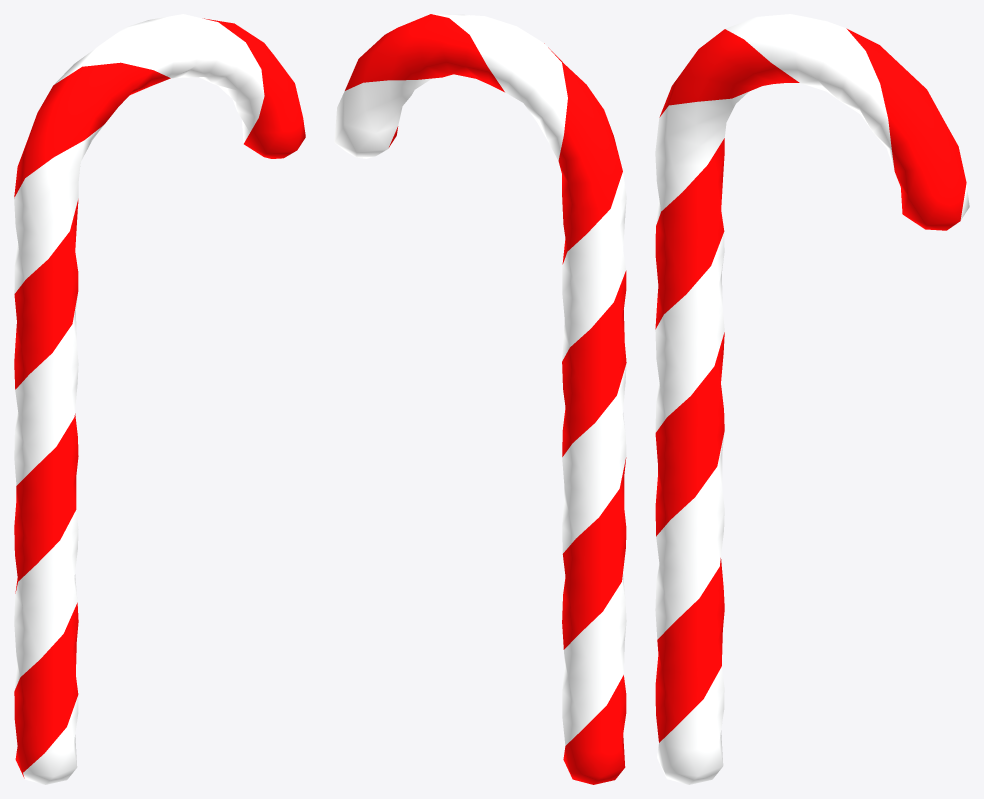
File: Candy_Stick_01.glb
3 views of the same model, side by side, from view 1: azimuth 30°, elevation 25°; view 2: azimuth 150°, elevation 25°; view 3: azimuth 330°, elevation 25° (orthographic). The views are drawn at different scales.
Parts seen in each view (by area): view 1: Candy_Stick_01; view 2: Candy_Stick_01; view 3: Candy_Stick_01.
Part boxes in pixels (left/top/right/bottom): Candy_Stick_01: left=14, top=14, right=305, bottom=784; Candy_Stick_01: left=334, top=14, right=626, bottom=784; Candy_Stick_01: left=655, top=14, right=969, bottom=784.
Size of the model in its own units: 0.6629 by 1.64 by 0.1306.
Materials: 1 (1 with a texture image).
